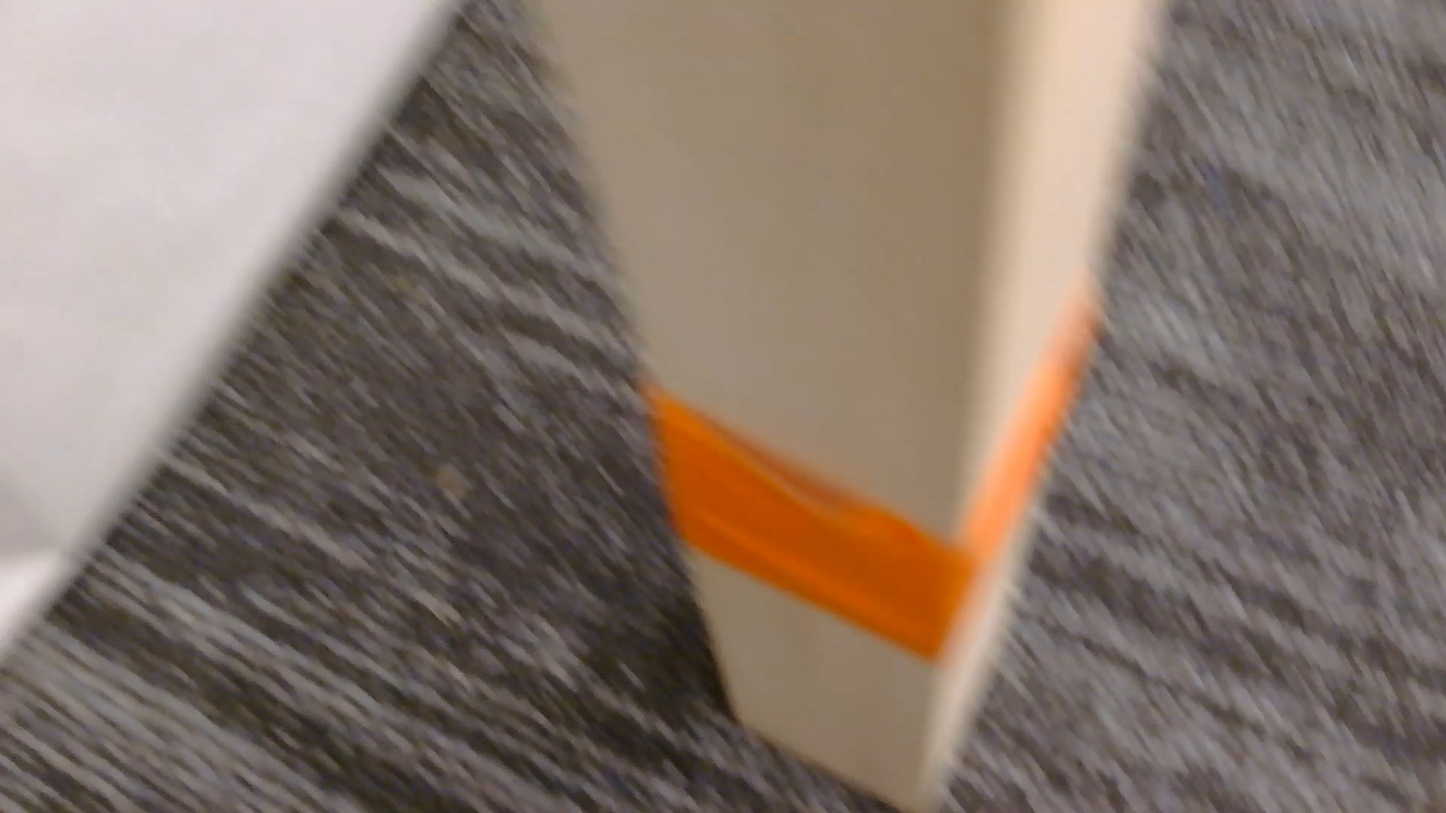Wooden Block: (530, 0, 1162, 812)
